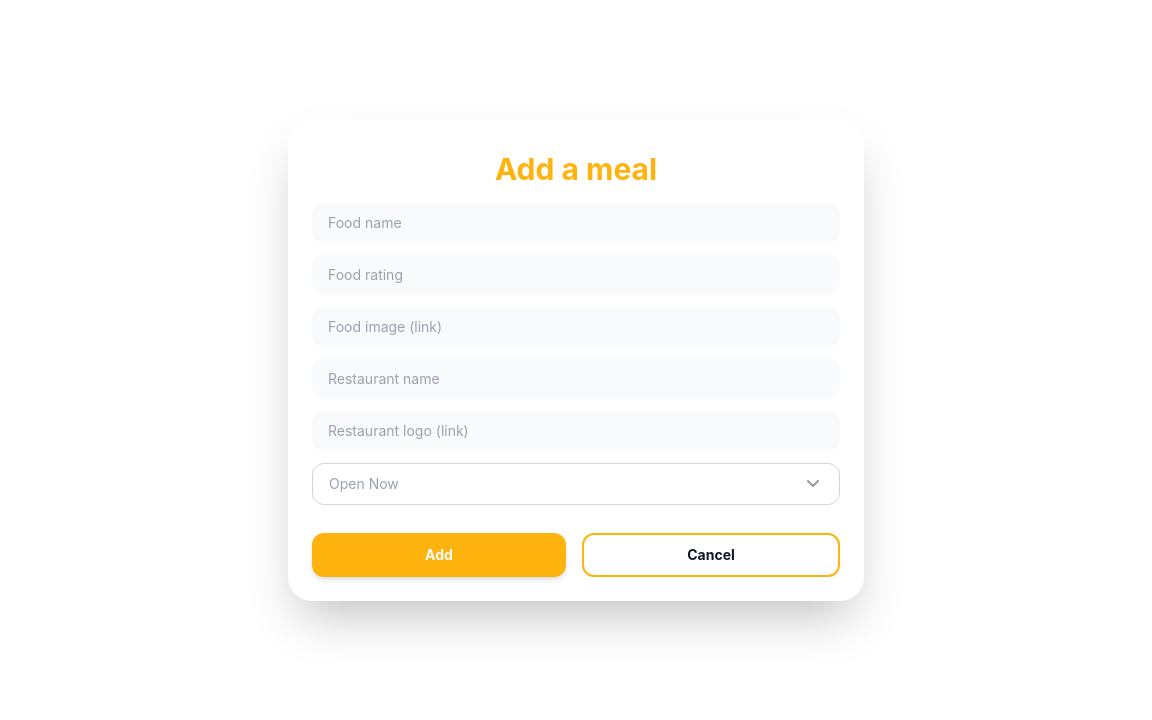
FoodModal Component › Form Validation › validates rating is between 1 and 5
// Fill in all required fields
Step 1. Type "Test" into the field with placeholder "Food name" → (576, 223), box [312,203,840,243]
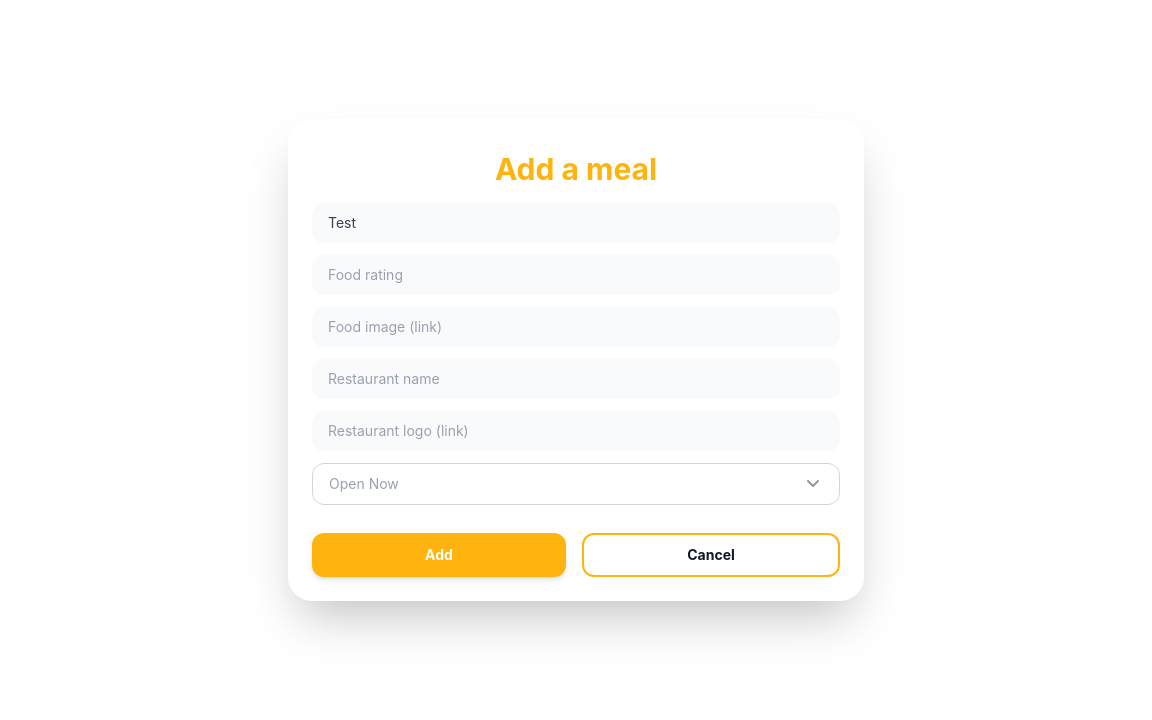
Step 2. Type "6" into the number field with placeholder "Food rating" → (576, 275), box [312,255,840,295]
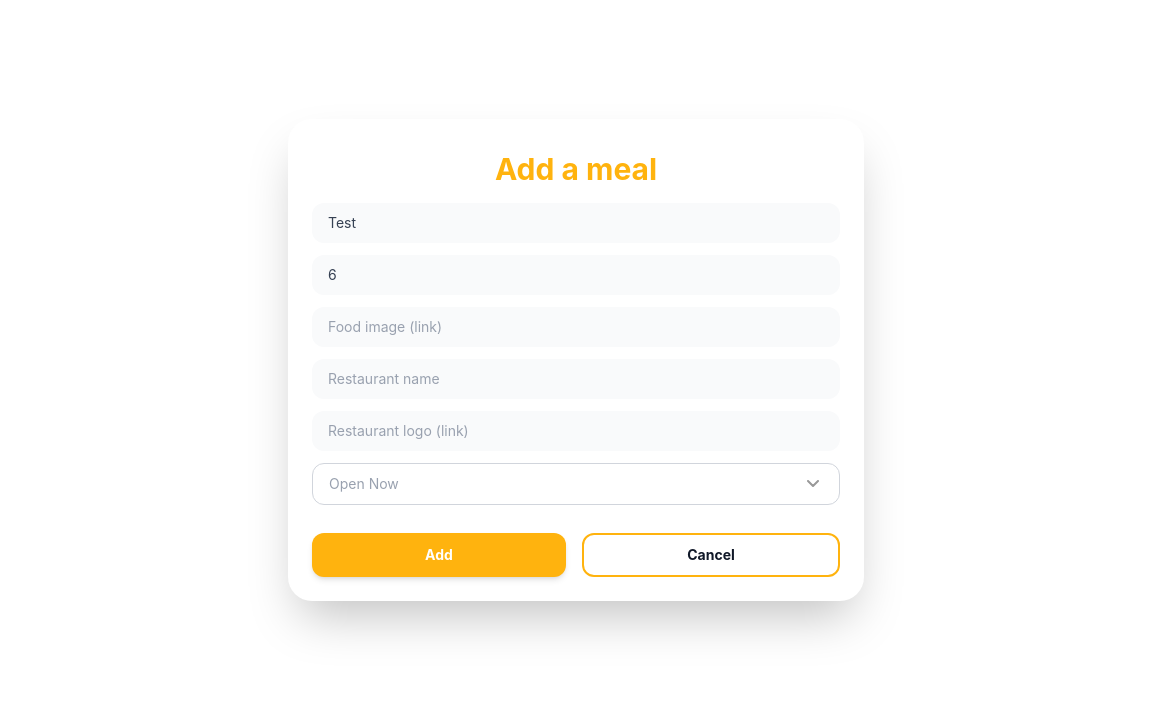
Step 3. Type "https://example.com/test.jpg" into the field with placeholder "Food image (link)" → (576, 327), box [312,307,840,347]
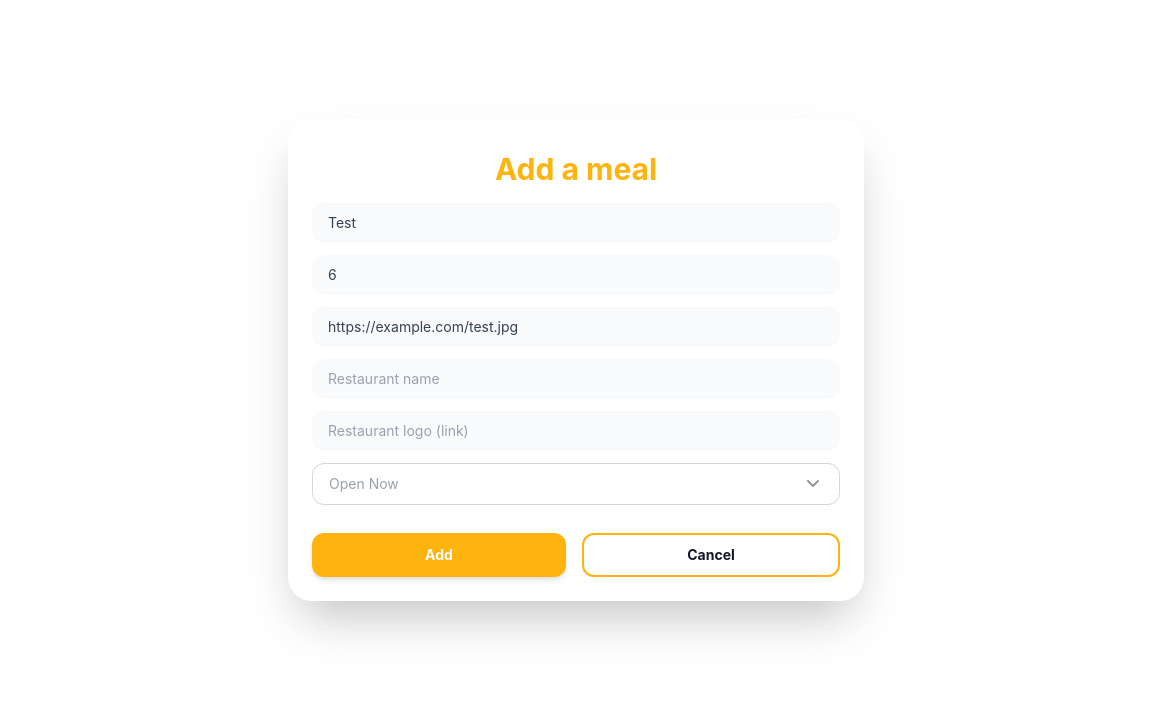
Step 4. Type "Test" into the field with placeholder "Restaurant name" → (576, 379), box [312,359,840,399]
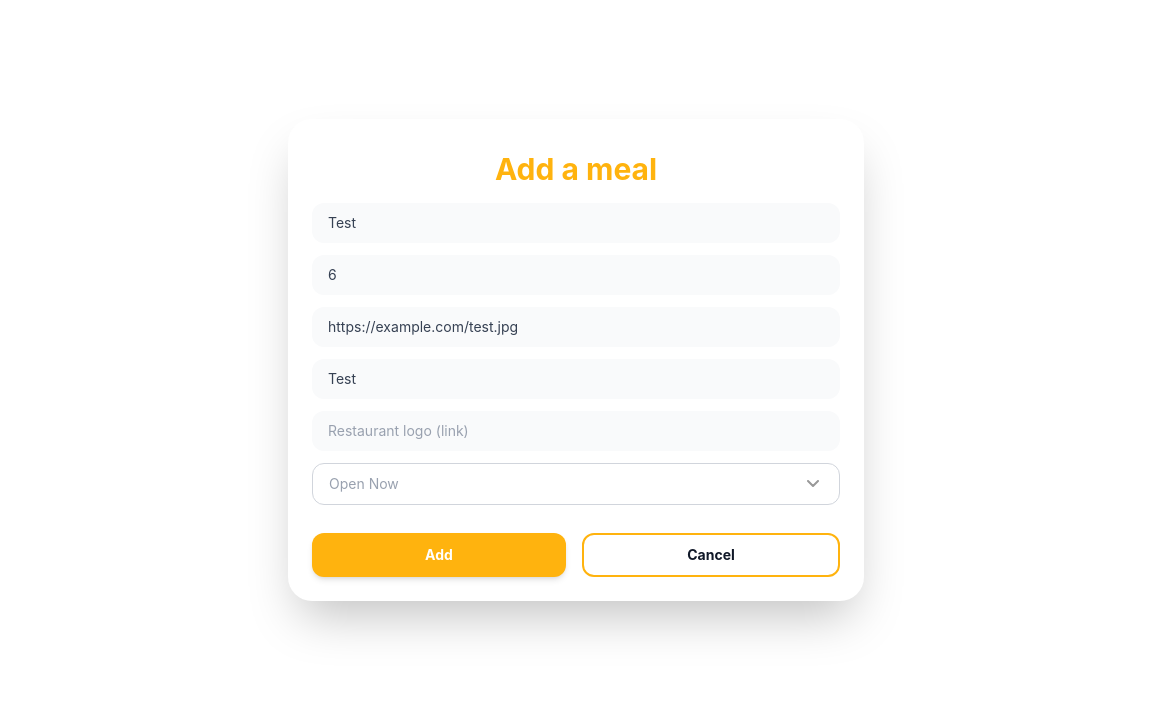
Step 5. Type "https://example.com/logo.jpg" into the field with placeholder "Restaurant logo (link)" → (576, 431), box [312,411,840,451]
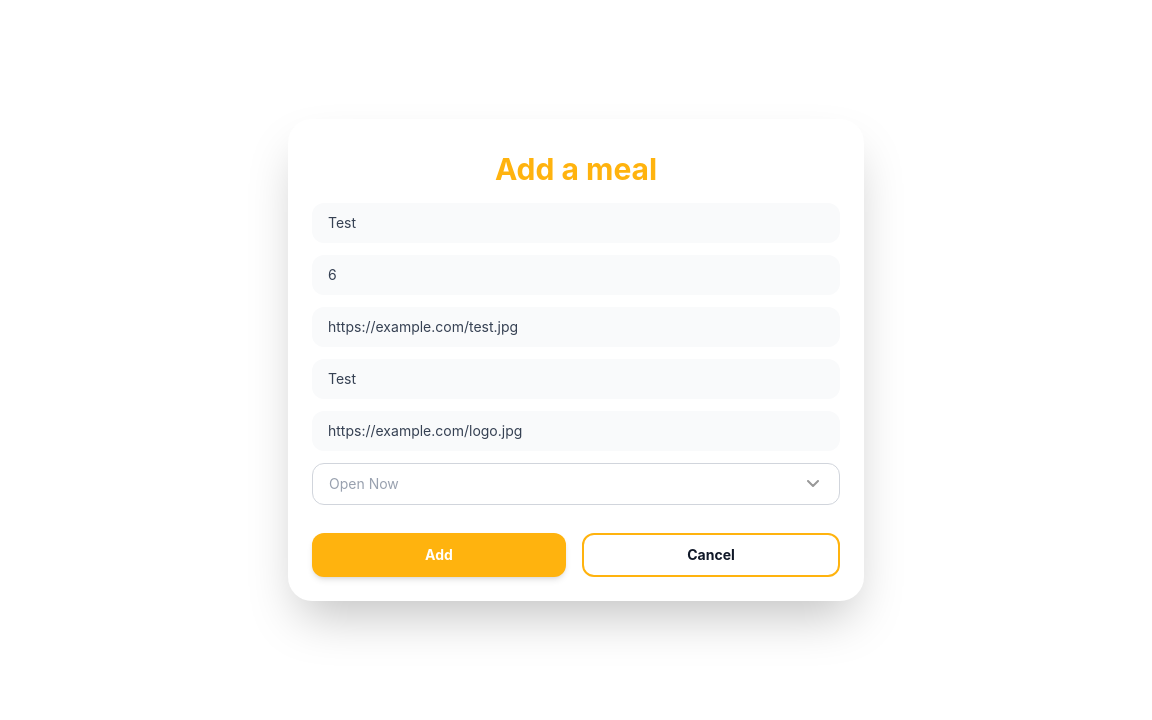
Step 6. Click the button "Add" → (439, 555), box [312,533,566,577]
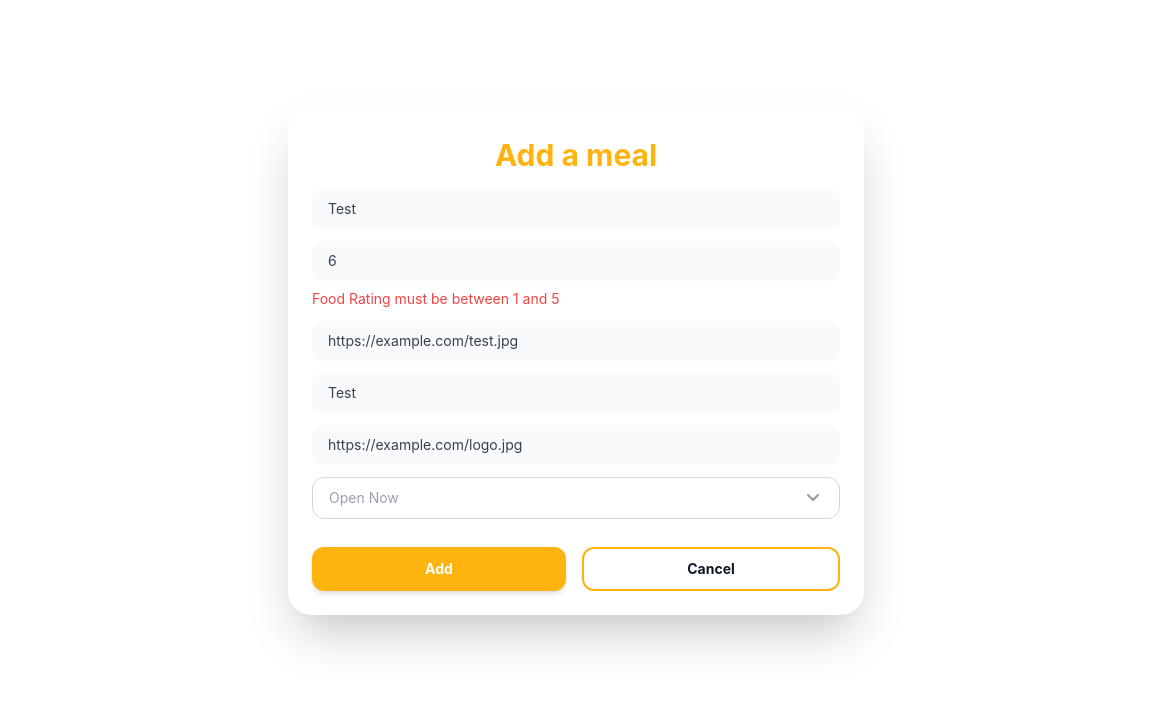
Result: the text "Food Rating must be between 1 and 5" is shown at [312,290,560,307]
